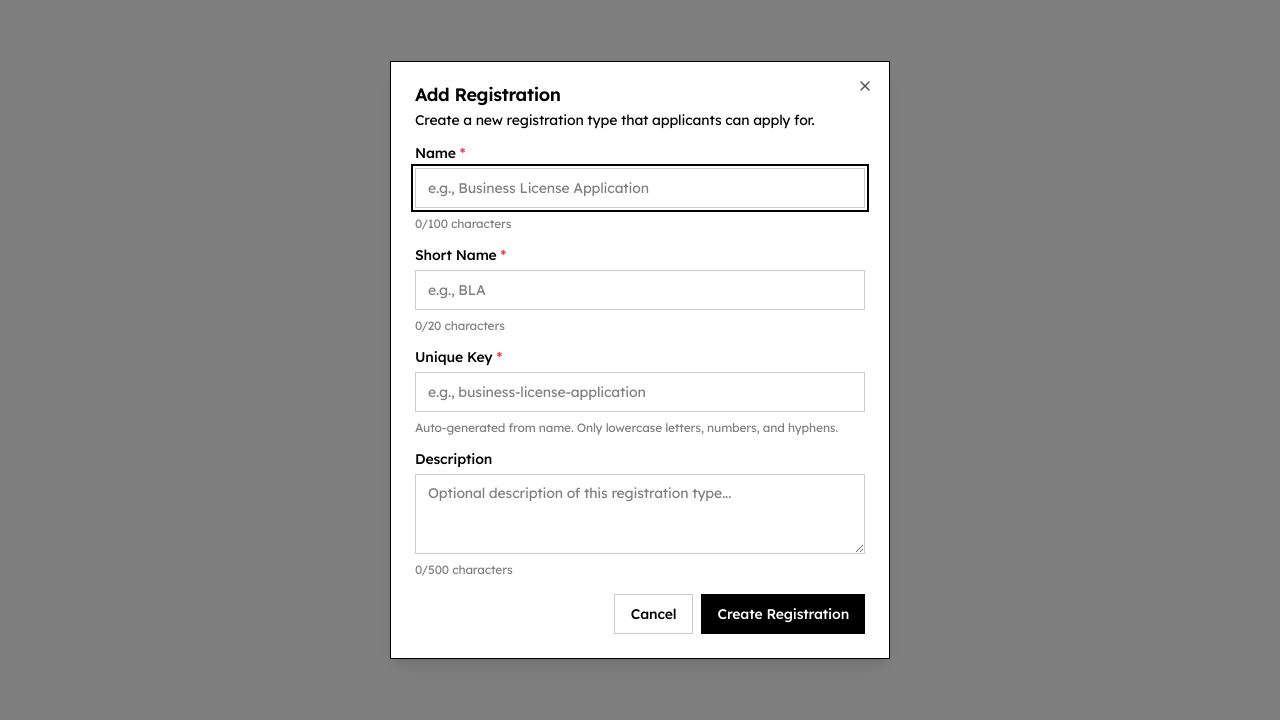
RegistrationForm › Create Mode › validates key format
Fill required fields with invalid key
Type "Test" into the field labelled "Name *" at (640, 188), box 415,168 -> 865,208
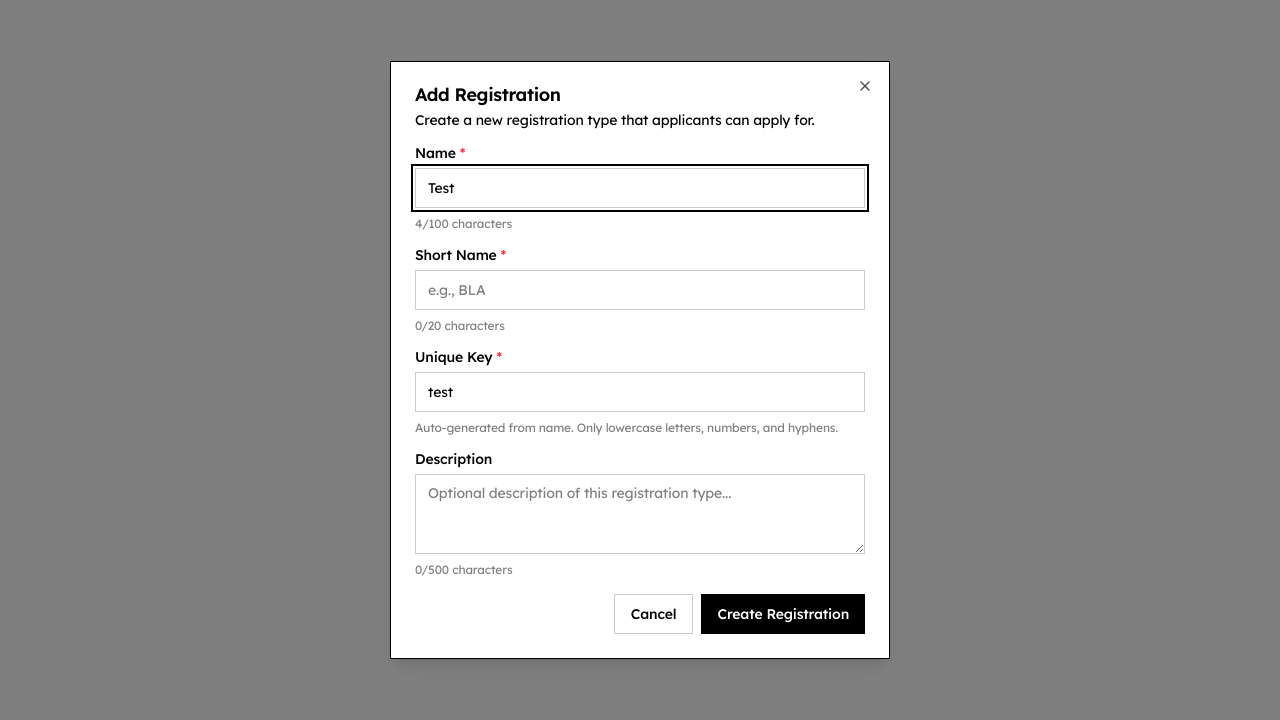
Type "T" into the field labelled "Short Name *" at (640, 290), box 415,270 -> 865,310
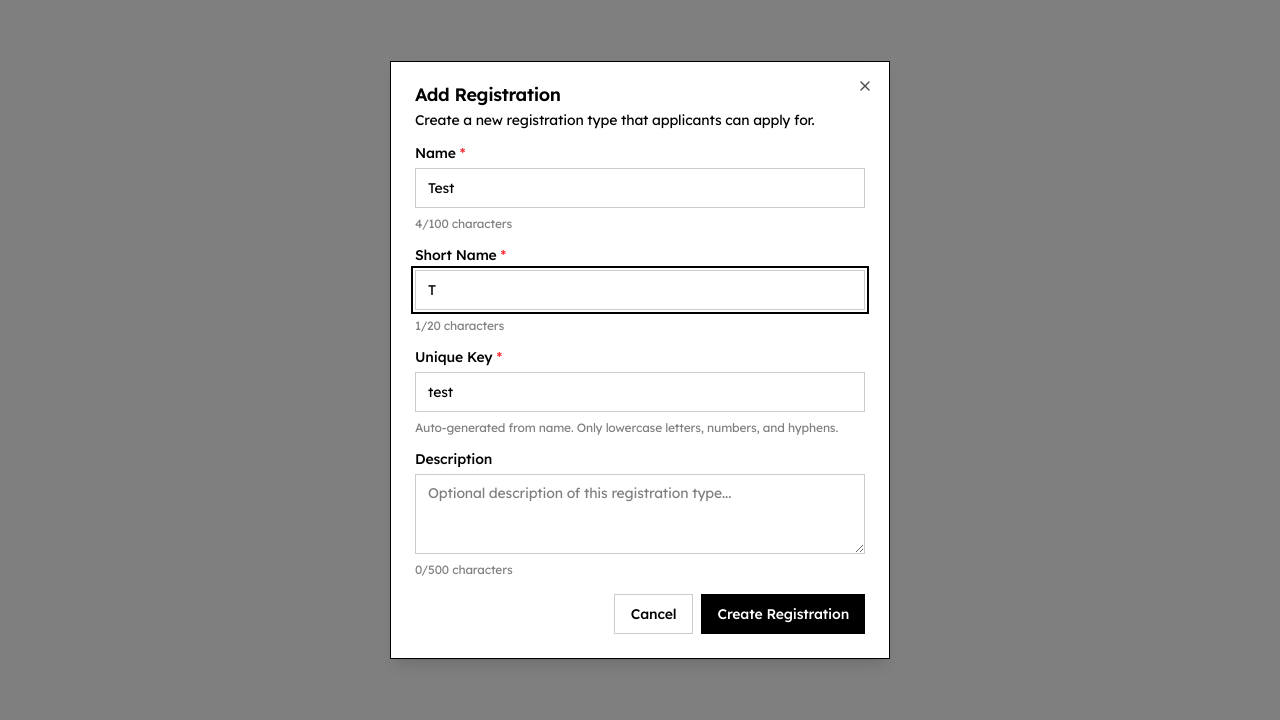
Replace the text in the field labelled "Unique Key *" with "Invalid Key!" at (640, 392), box 415,372 -> 865,412
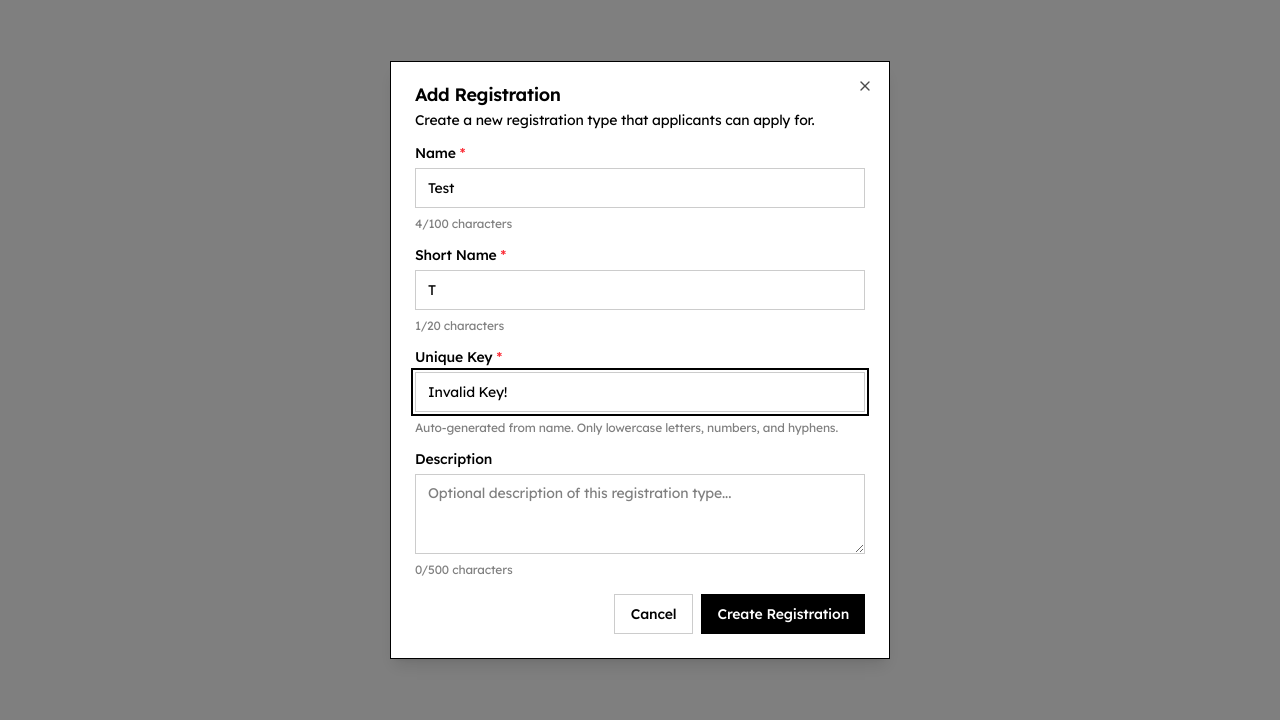
Click the button "Create Registration" at (783, 614), box 702,594 -> 865,634
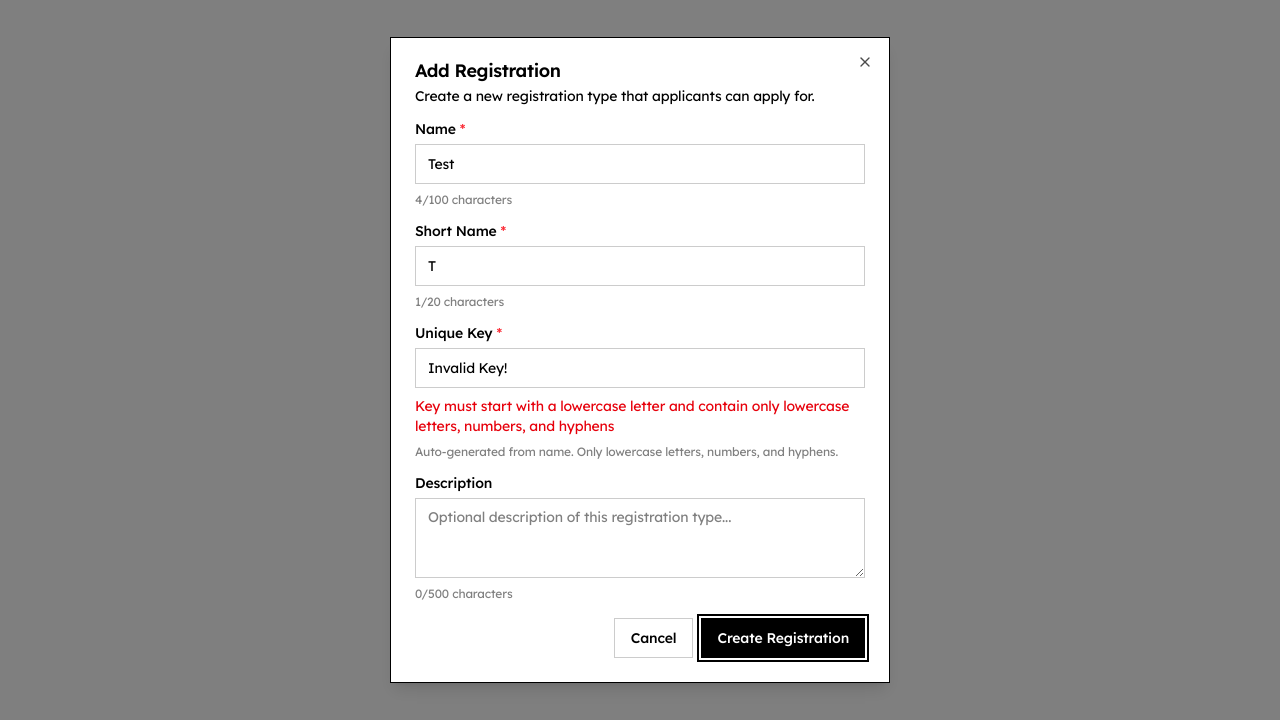
Result: the text "Key must start with a lowercase letter and contain only lowercase letters, numbers, and hyphens" is shown at 415,397 -> 849,435
